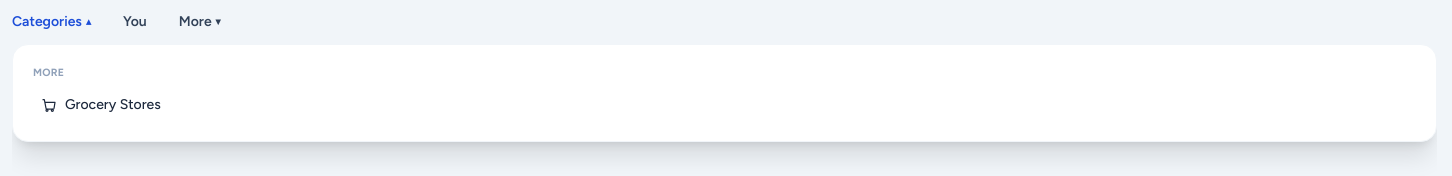
Test: HeaderNav — More › hides the feedback item when an admin has turned feedback off
Click the button "More ▾". click: (200, 22)
box: [179,12,221,32]
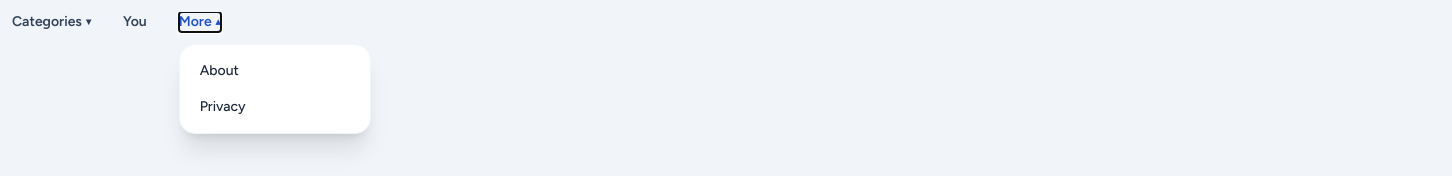
Expected: the link "About" is shown, [200,62,239,79]
